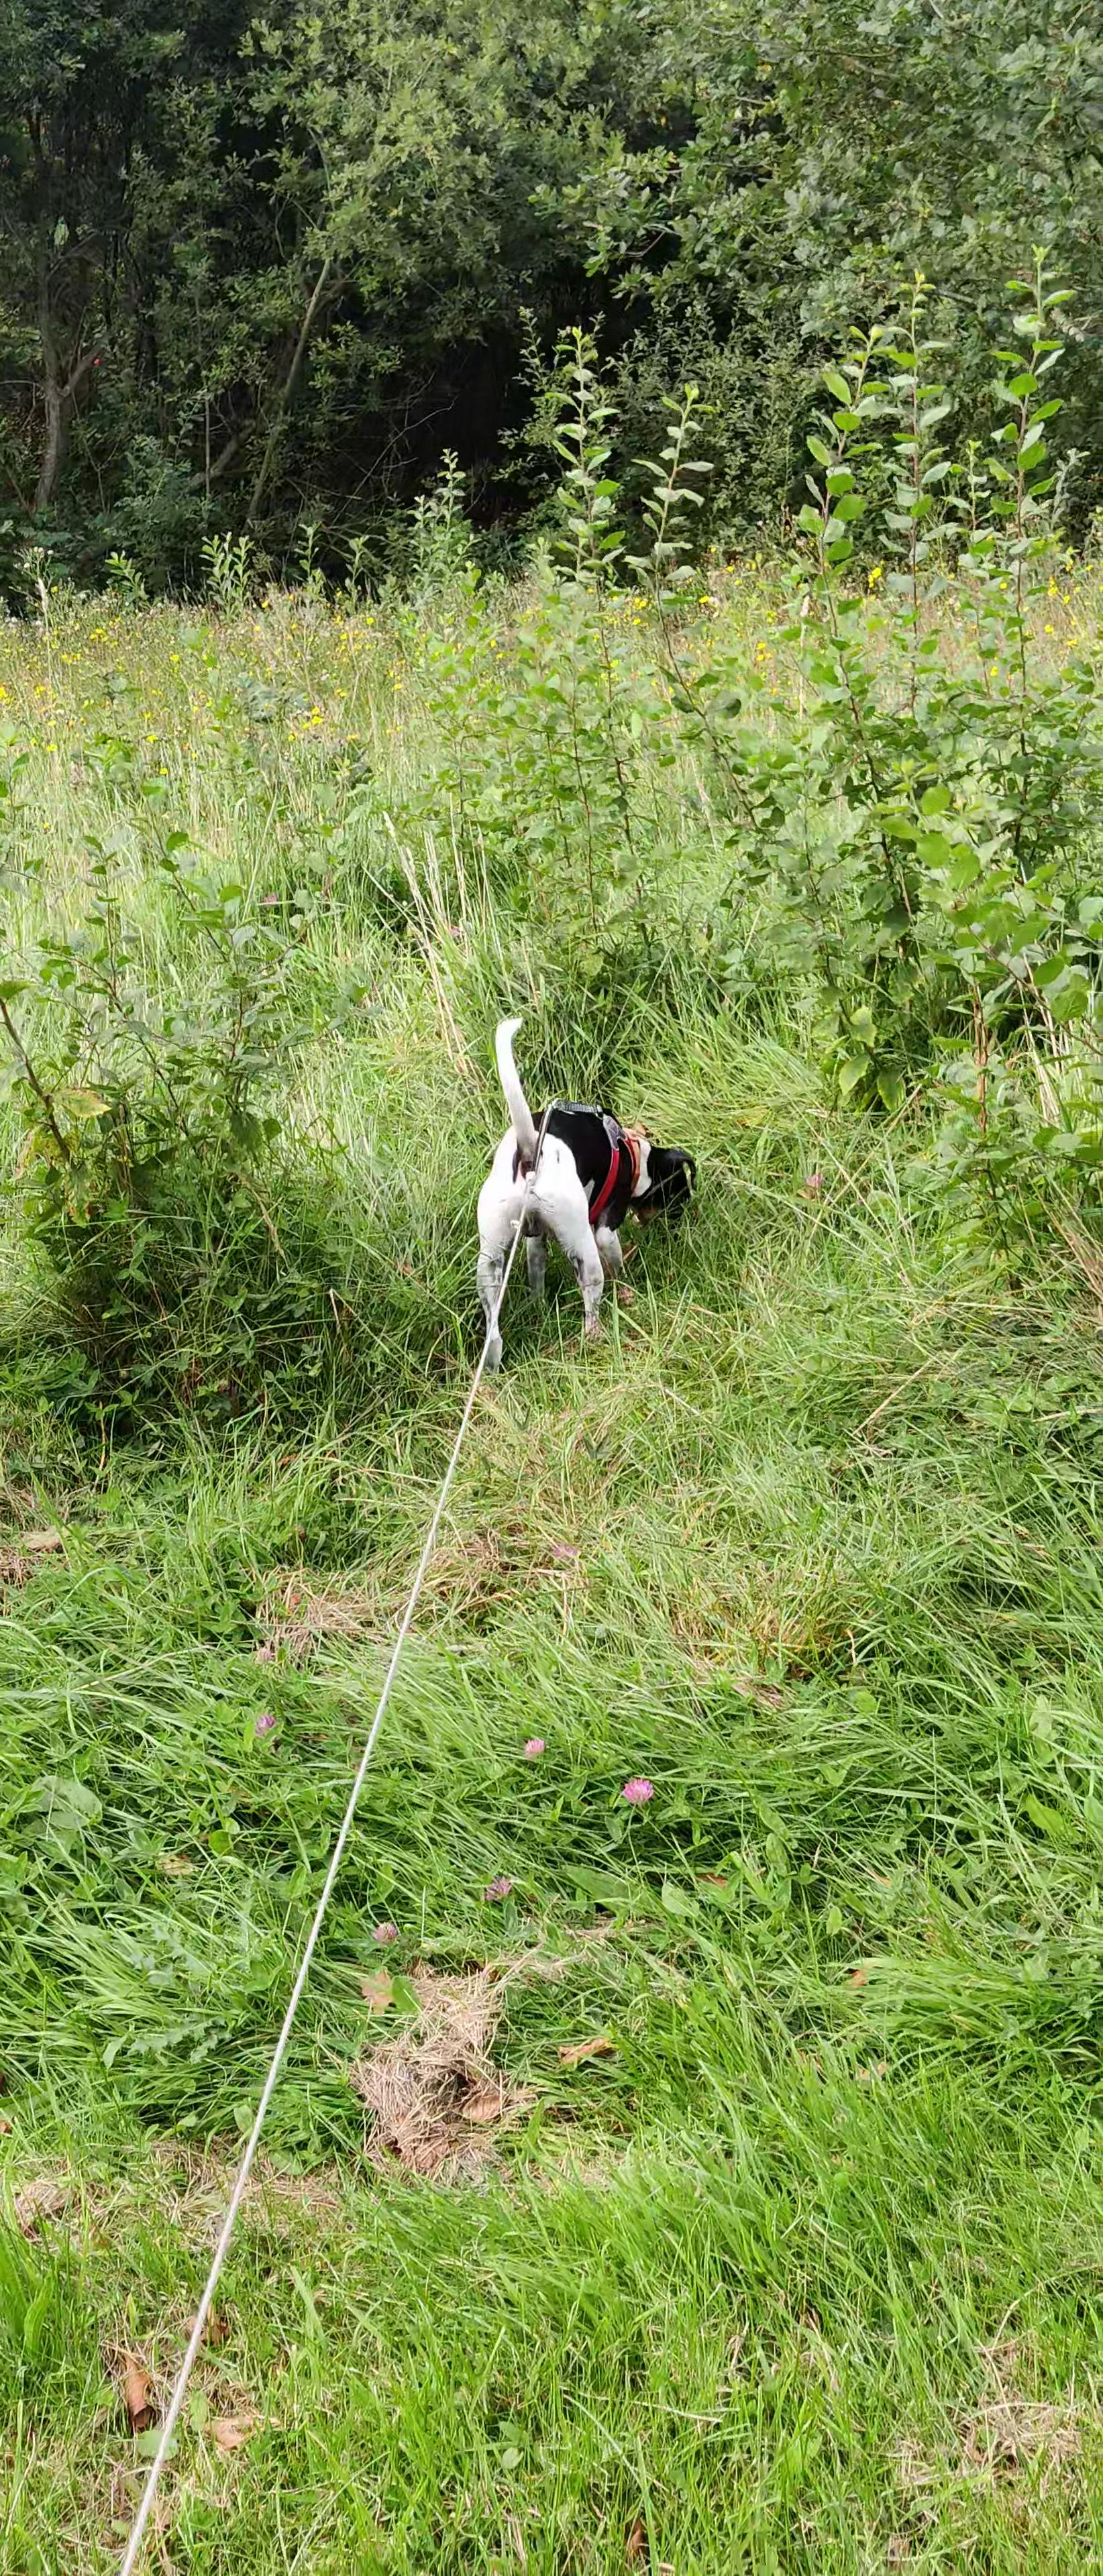Dog: (436, 994, 723, 1387)
